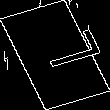L_W: (17, 31, 93, 79)
